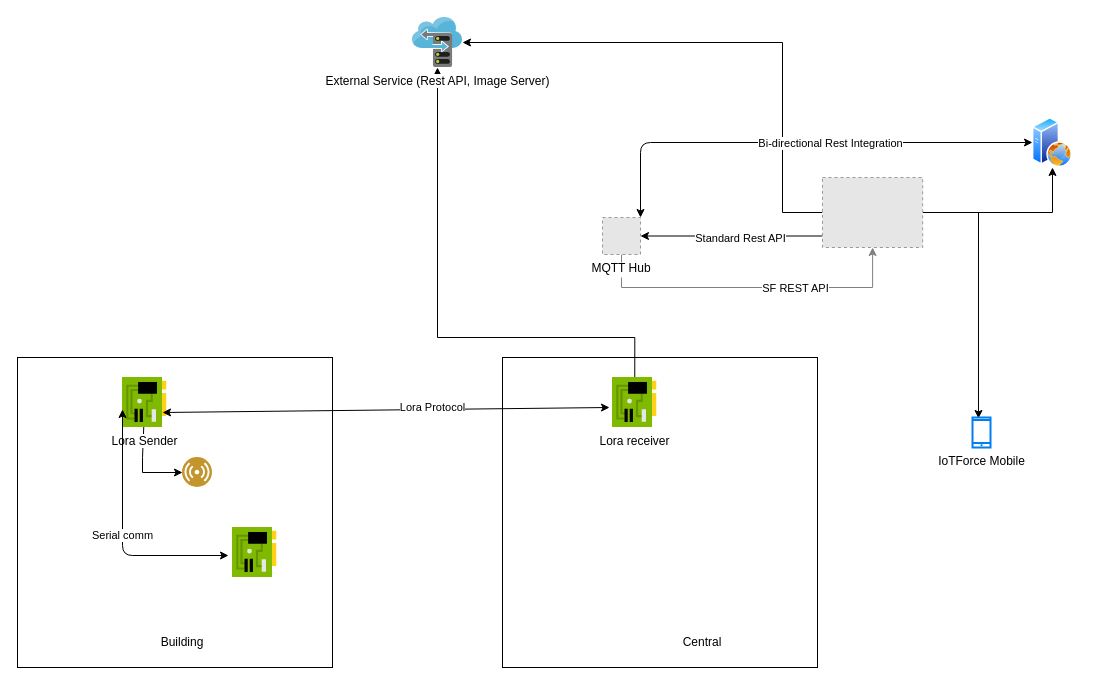
Some shapes in this 1117 by 685 pixel diagram are drawn without their labels. Grey dashed boxes stand in for pictures. The centre of each missing label's shape, as x and y in pixels:
"Esp32 Cam" goes at point (254, 552).
"External solutions" goes at point (1052, 142).
"Noise sensor" goes at point (197, 472).
